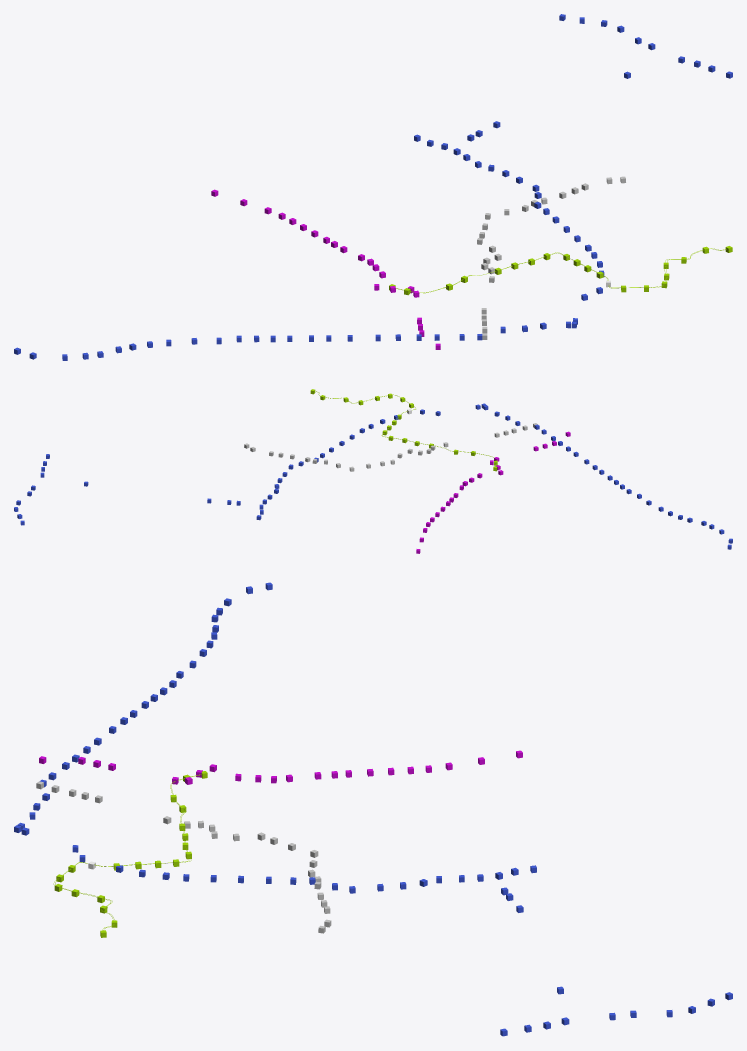
Rendered from subway_map_G_7_L_ACE.glb.
The picture shows the model from 3 angles, top to bottom: view 1: azimuth 30°, elevation 25°; view 2: azimuth 150°, elevation 25°; view 3: azimuth 270°, elevation 25°; orthographic projection. The views are drawn at different scales.
Bounding box in the file's own units: 77.03 × 0.4642 × 52.13.
